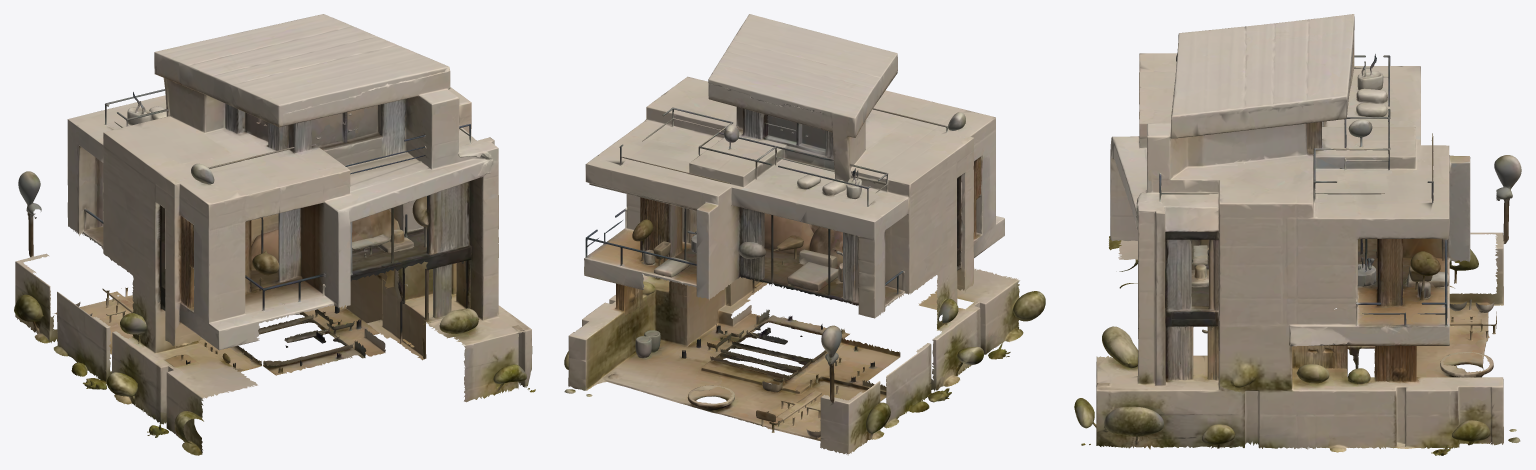
Rendered from villa-dae58f47.glb.
The picture shows the model from 3 angles, left to right: view 1: azimuth 30°, elevation 25°; view 2: azimuth 150°, elevation 25°; view 3: azimuth 270°, elevation 25°; orthographic projection. The views are drawn at different scales.
Visible parts, largest first — view 1: tripo_node_788fb297-6775-485e-bb4e-9acebe1e4410; view 2: tripo_node_788fb297-6775-485e-bb4e-9acebe1e4410; view 3: tripo_node_788fb297-6775-485e-bb4e-9acebe1e4410.
Part boxes in pixels (bbox=[...]): tripo_node_788fb297-6775-485e-bb4e-9acebe1e4410: bbox=[14, 14, 535, 455]; tripo_node_788fb297-6775-485e-bb4e-9acebe1e4410: bbox=[564, 14, 1045, 455]; tripo_node_788fb297-6775-485e-bb4e-9acebe1e4410: bbox=[1074, 14, 1521, 455].
Bounding box in the file's own units: 11.05 × 8.89 × 11.55.
Materials: 1 (1 with a texture image).
